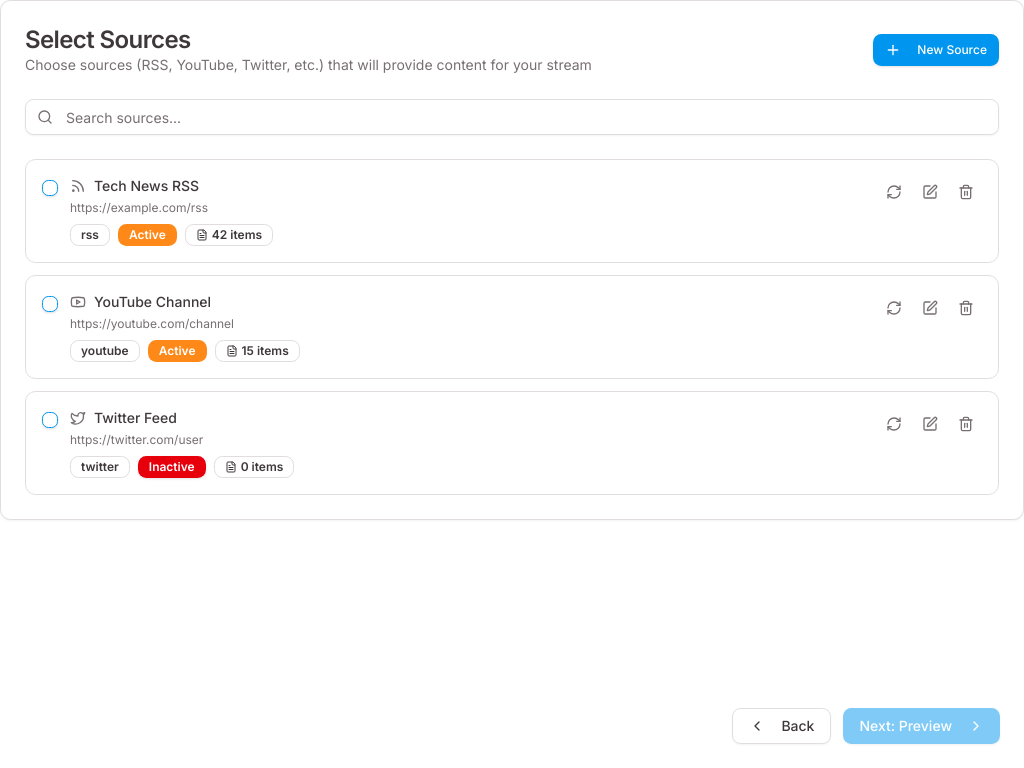
SourceSelectionStep › Search Functionality › filters sources by name
Expected: the heading "Tech News RSS" is shown, [94,176,199,196]
Type "Tech" into the field with placeholder "Search sources...".
click(512, 117); type("Tech")  # box [25,99,999,135]
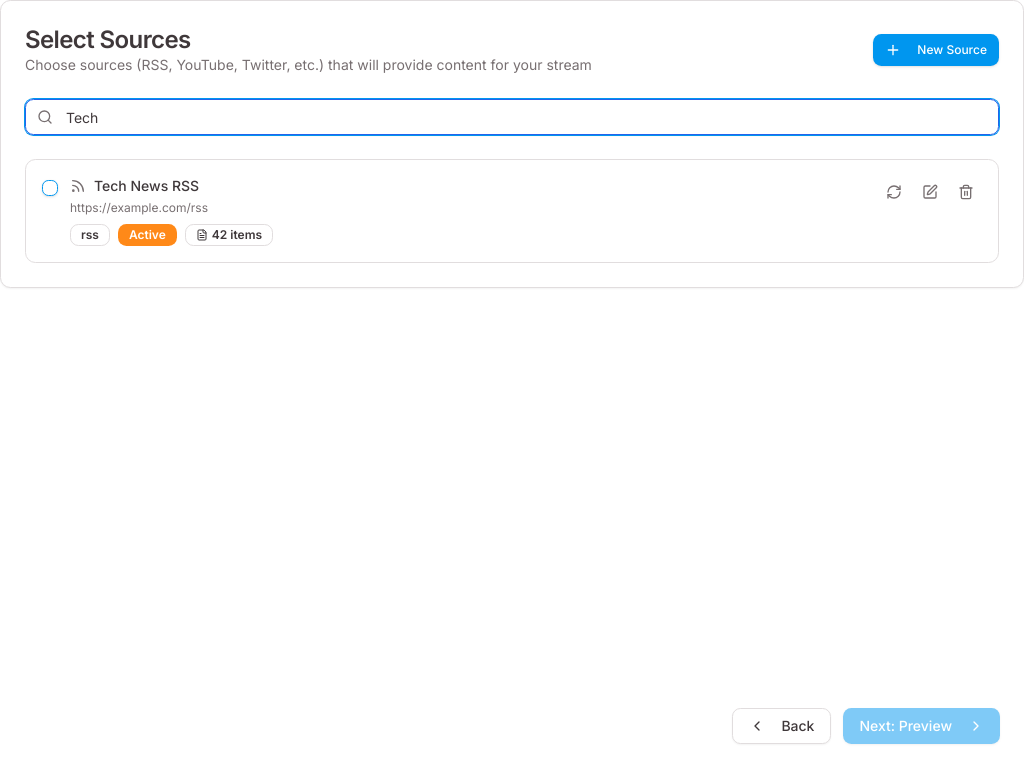
Expected: the heading "Tech News RSS" is shown, [94,176,199,196]
Expected: the heading "YouTube Channel" is gone
